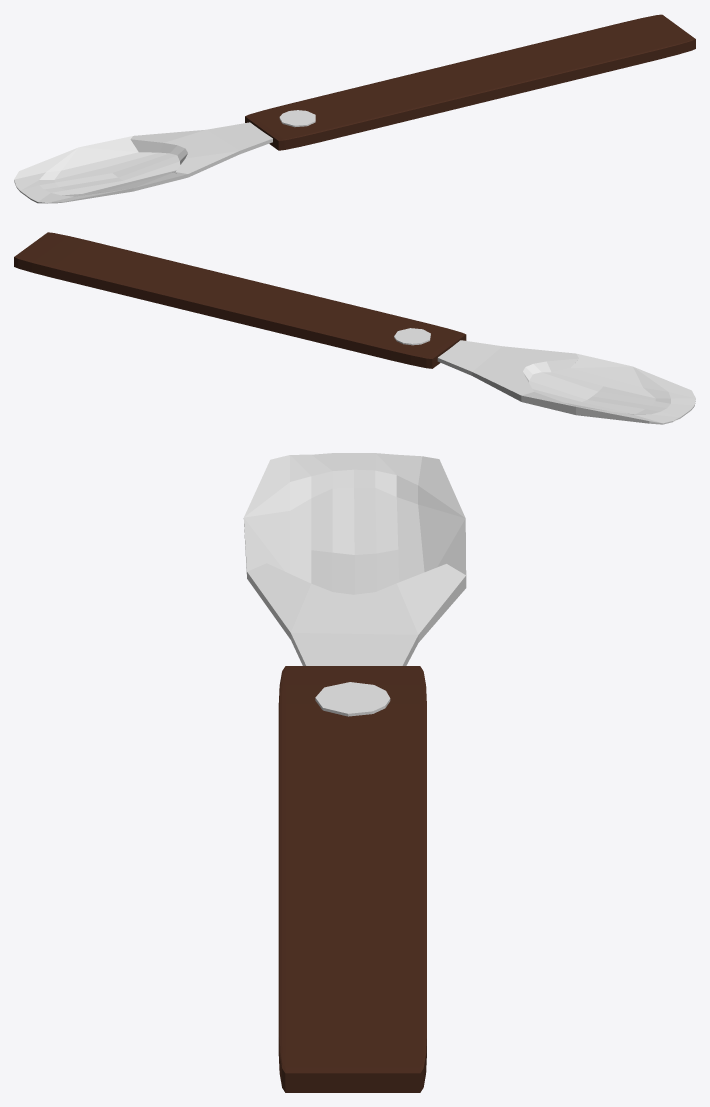
Rendered from Kitchen_SmallProps_Spoon_small.fbx.
3 views of the same model, one above another, from view 1: azimuth 30°, elevation 25°; view 2: azimuth 150°, elevation 25°; view 3: azimuth 270°, elevation 25° (orthographic). The views are drawn at different scales.
Parts seen in each view (by area): view 1: Handle_small, Spoon_small, Mutter.001; view 2: Handle_small, Spoon_small, Mutter.001; view 3: Handle_small, Spoon_small, Mutter.001.
Boxes of the visible parts, bbox=[...] form: Handle_small: bbox=[245, 14, 695, 150]; Spoon_small: bbox=[14, 122, 272, 203]; Mutter.001: bbox=[279, 110, 315, 127]; Handle_small: bbox=[14, 232, 466, 368]; Spoon_small: bbox=[437, 340, 695, 424]; Mutter.001: bbox=[394, 328, 430, 345]; Handle_small: bbox=[278, 666, 426, 1092]; Spoon_small: bbox=[243, 453, 466, 665]; Mutter.001: bbox=[315, 682, 390, 716].
Size of the model in its own units: 20.35 by 0.5556 by 3.
